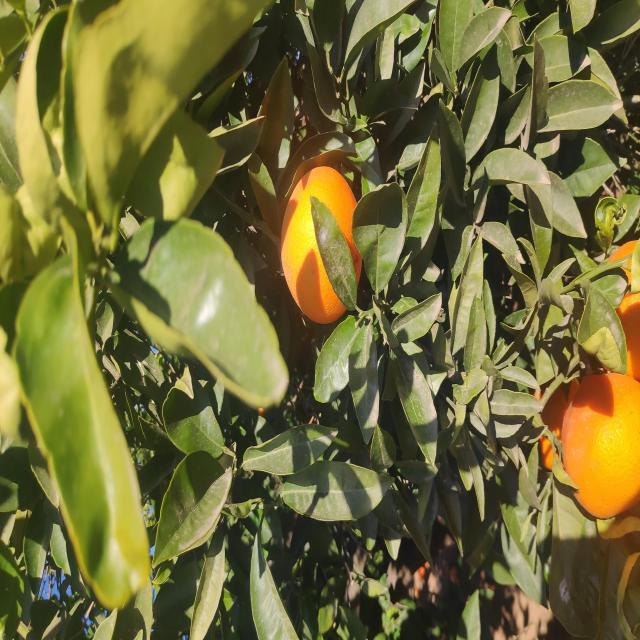Jeruk Sudah Matang: (319, 281, 494, 367), (130, 565, 280, 640), (260, 603, 400, 640), (178, 538, 266, 568)
